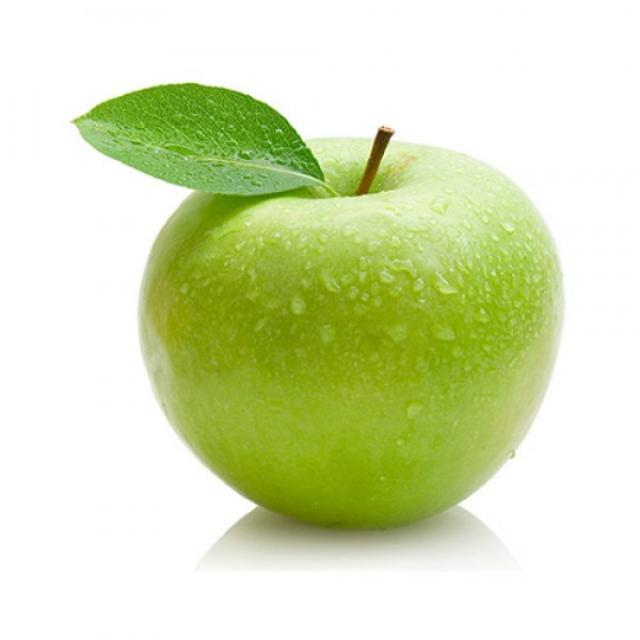Green Apple: (136, 127, 566, 532)
